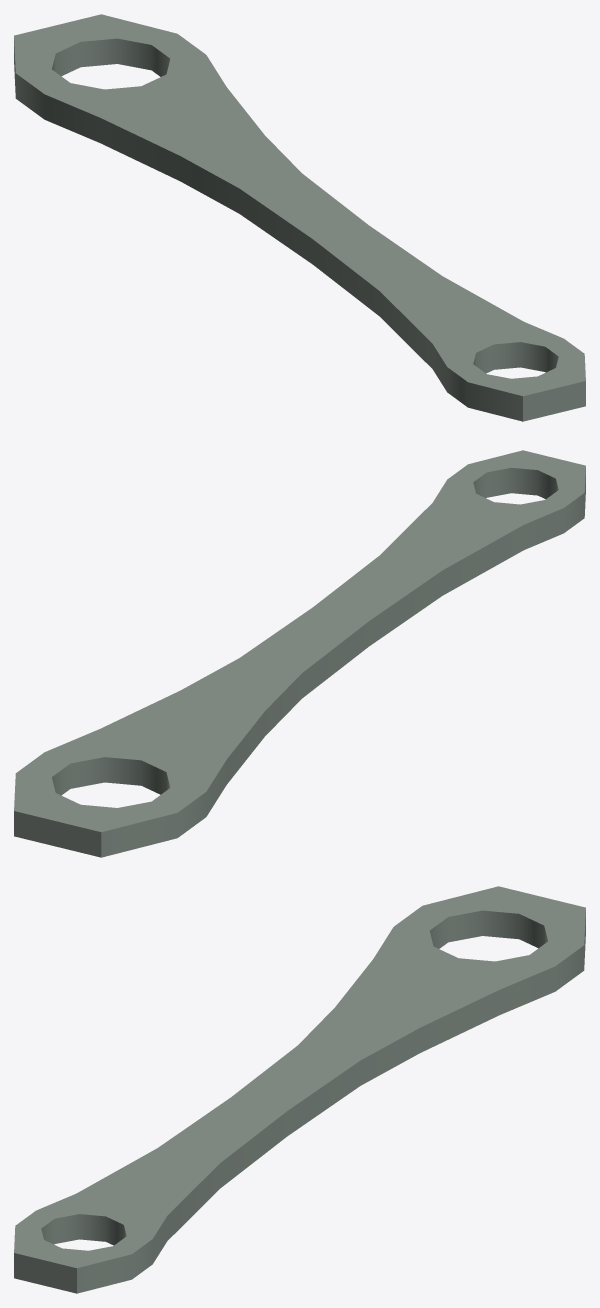
File: SM_tool_01.fbx
3 views of the same model, one above another, from view 1: azimuth 30°, elevation 25°; view 2: azimuth 150°, elevation 25°; view 3: azimuth 330°, elevation 25° (orthographic).
Parts seen in each view (by area): view 1: tool_01; view 2: tool_01; view 3: tool_01.
Boxes of the visible parts, bbox=[...] form: tool_01: bbox=[14, 14, 585, 421]; tool_01: bbox=[14, 450, 585, 857]; tool_01: bbox=[14, 886, 585, 1293].
Size of the model in its own units: 11.11 by 1.67 by 59.06.
